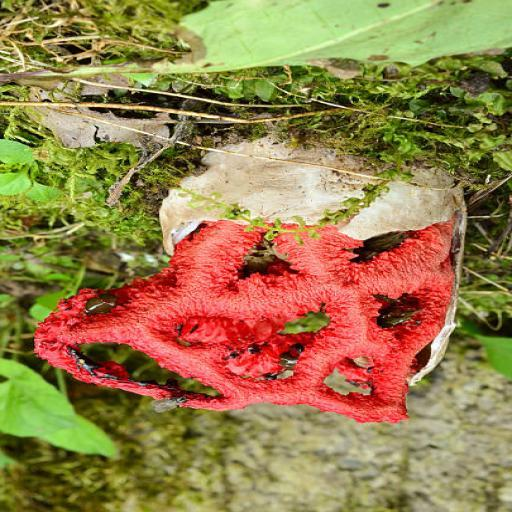mushroom: (22, 130, 463, 423)
